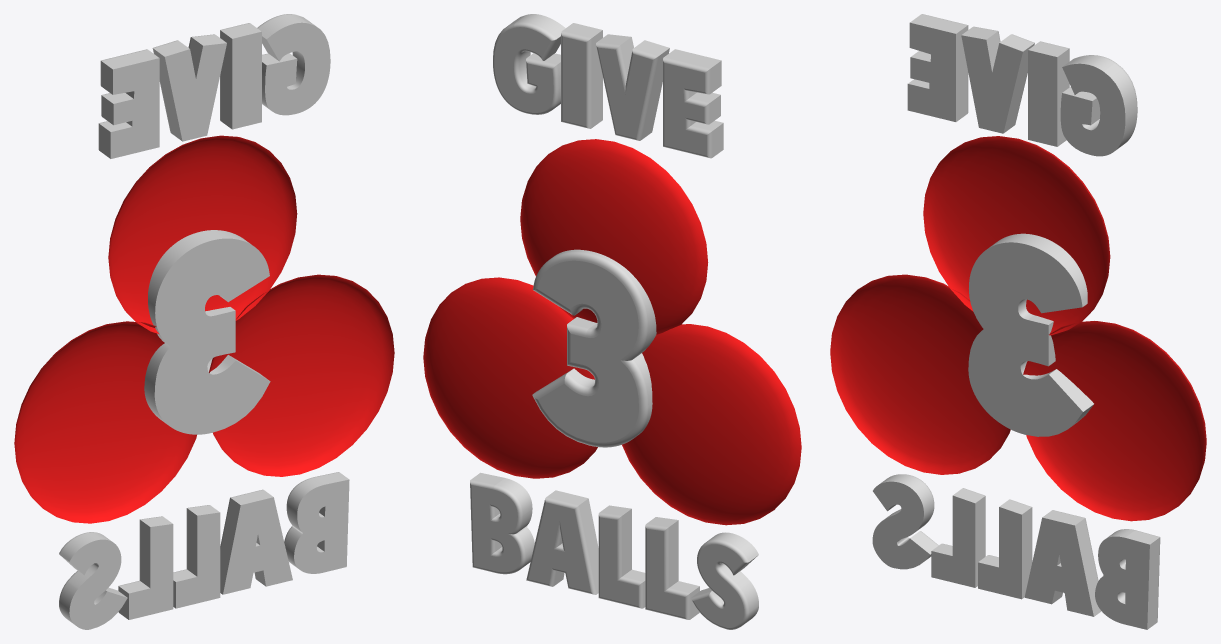
Rendered from Give3Balls.fbx.
3 views of the same model, side by side, from view 1: azimuth 30°, elevation 25°; view 2: azimuth 150°, elevation 25°; view 3: azimuth 330°, elevation 25° (orthographic).
Parts seen in each view (by area): view 1: TextPlus011; view 2: TextPlus011; view 3: TextPlus011.
Part boxes in pixels (x1,y1,x2,y2): TextPlus011: (14,14,394,629); TextPlus011: (423,14,801,629); TextPlus011: (830,14,1206,629).
Bounding box in the file's own units: 49.02 × 5.89 × 68.97.
